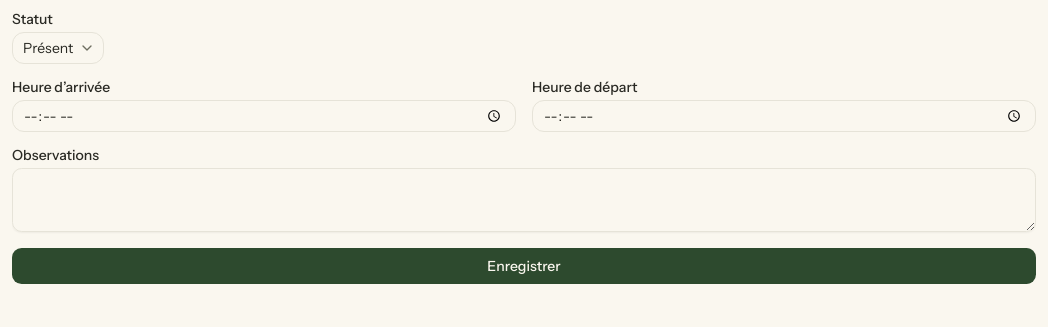
Test: AttendanceForm (création — pas de pointage existant) › affiche une erreur si le statut Présent n’a pas d’heure d’arrivée
Click the button "Enregistrer": [524, 266] box top-left (12, 248), bottom-right (1036, 284)
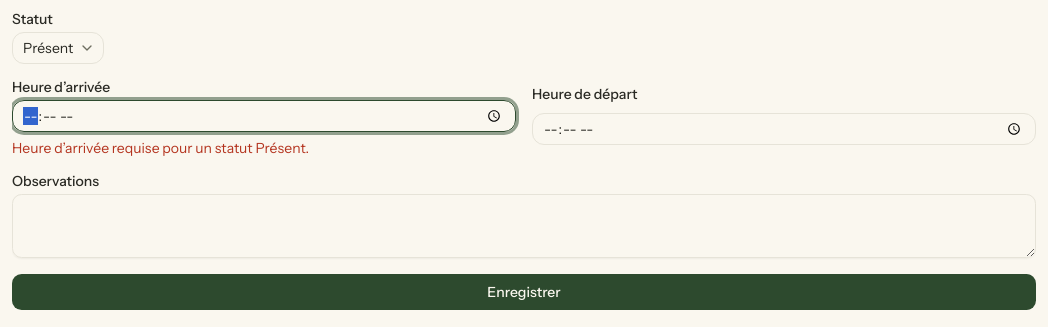
Expected: the text "Heure d’arrivée requise pour un statut Présent." is shown, top-left (12, 139), bottom-right (309, 157)
